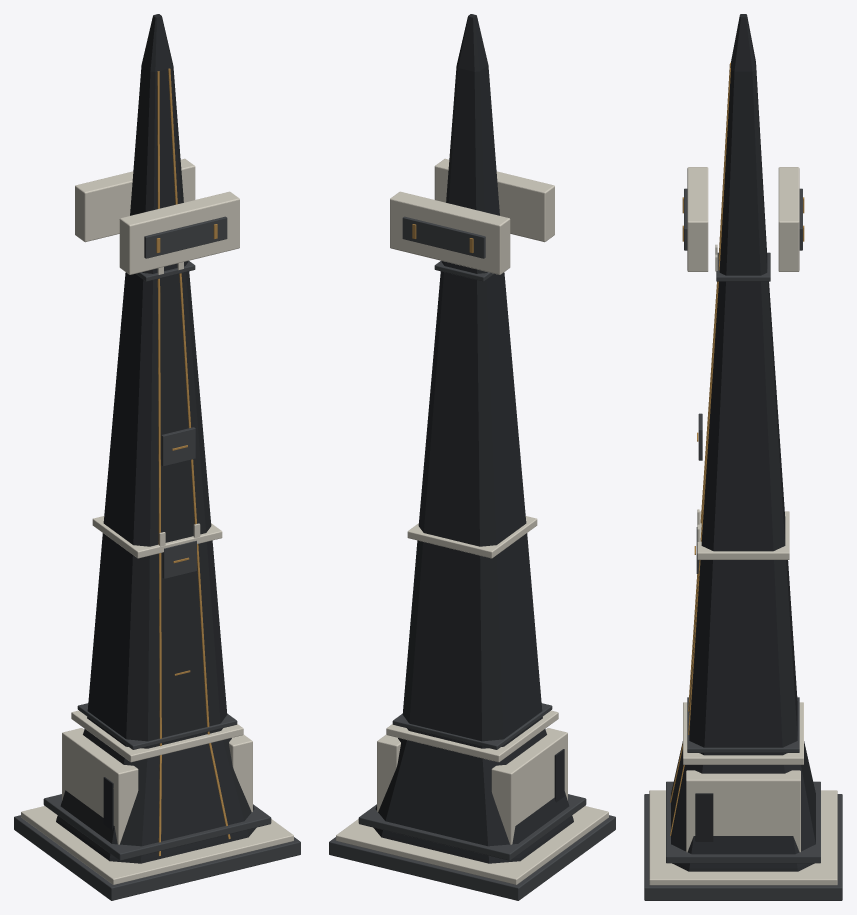
File: SM_Aurelion_KIT_Z12VistaSpireShort.fbx
3 views of the same model, side by side, from view 1: azimuth 30°, elevation 25°; view 2: azimuth 150°, elevation 25°; view 3: azimuth 270°, elevation 25° (orthographic).
Visible parts, largest first — view 1: SM_Aurelion_KIT_Z12VistaSpireShort; view 2: SM_Aurelion_KIT_Z12VistaSpireShort; view 3: SM_Aurelion_KIT_Z12VistaSpireShort.
Part boxes in pixels (box(x1,y1,x2,y2)): SM_Aurelion_KIT_Z12VistaSpireShort: box(14, 14, 300, 900); SM_Aurelion_KIT_Z12VistaSpireShort: box(329, 14, 615, 900); SM_Aurelion_KIT_Z12VistaSpireShort: box(644, 14, 842, 900).
Bounding box in the file's own units: 445 × 396 × 1850.
